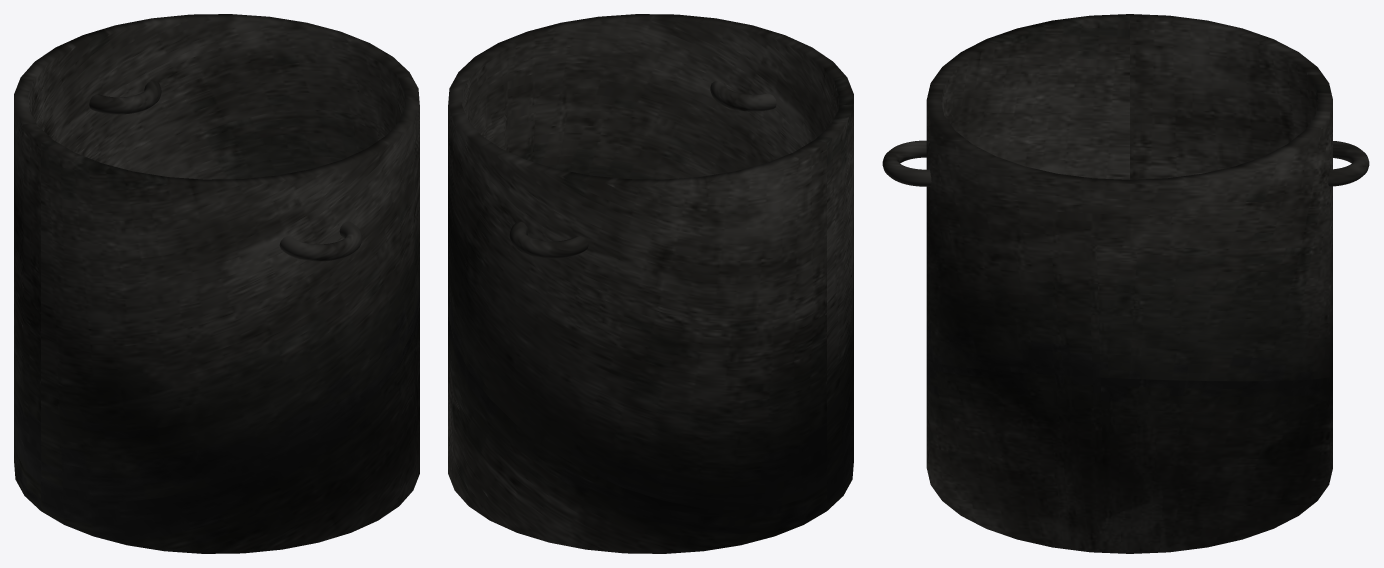
Rendered from DishesModel.fbx.
3 renders of one model, left to right at view 1: azimuth 30°, elevation 25°; view 2: azimuth 150°, elevation 25°; view 3: azimuth 270°, elevation 25°, orthographic.
Visible parts, largest first — view 1: Torus.001; view 2: Torus.001; view 3: Torus.001.
Part boxes in pixels (x1,y1,x2,y2): Torus.001: (14,14,419,553); Torus.001: (448,14,853,553); Torus.001: (882,14,1369,553).
Bounding box in the file's own units: 200 × 200 × 240.
